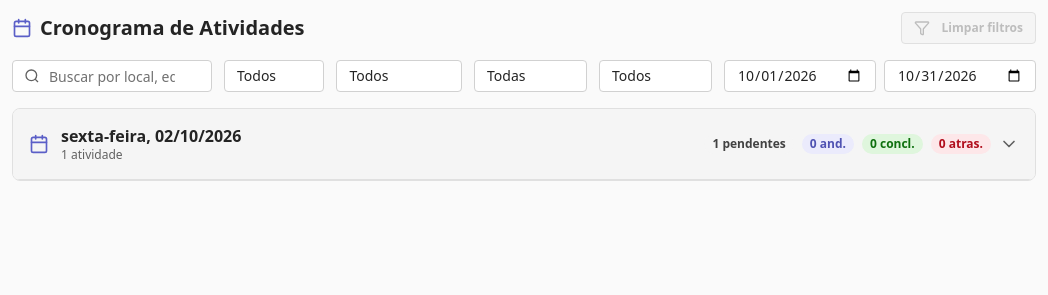
Test: CronogramaView — renderização › esconde as ações de editar/excluir para não-admin
The image size is (1048, 295).
Click the 2nd button.
click(151, 136)  # box [13,109,1035,180]
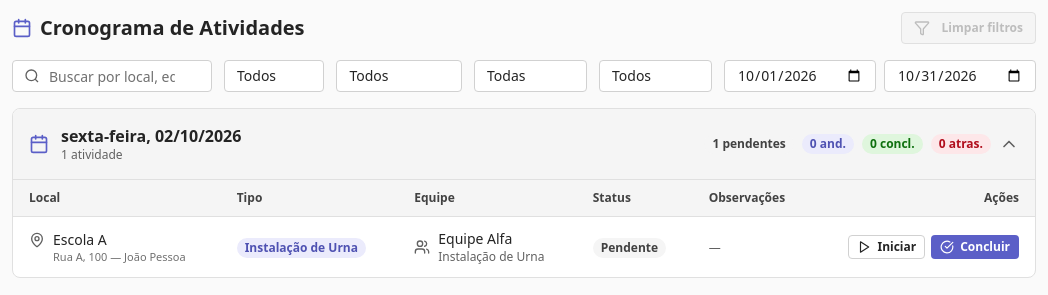
expect the button "Iniciar" is shown: met, box [848,235,925,259]
